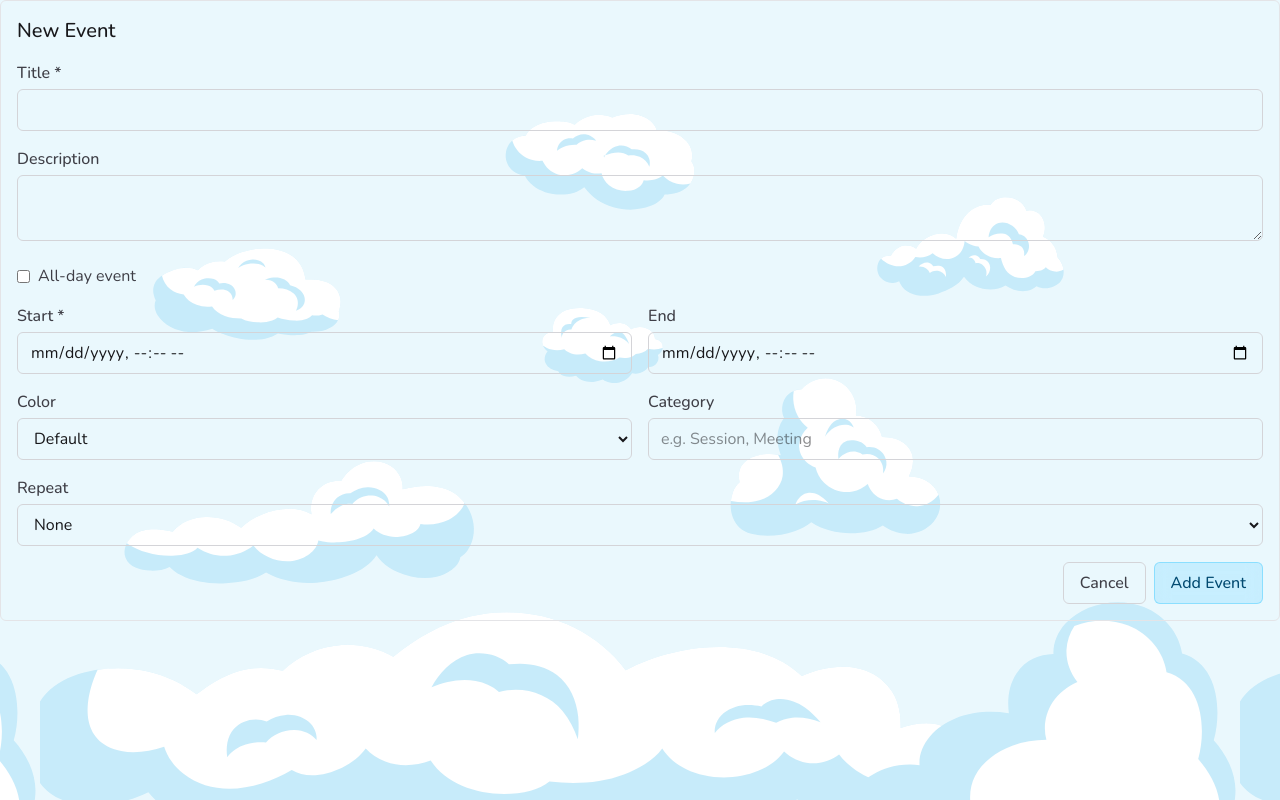
Scenario: CalendarEventForm › shows error when API returns error
Type "Test" into the field labelled "Title *". click: (640, 110)
box: [17,89,1263,131]
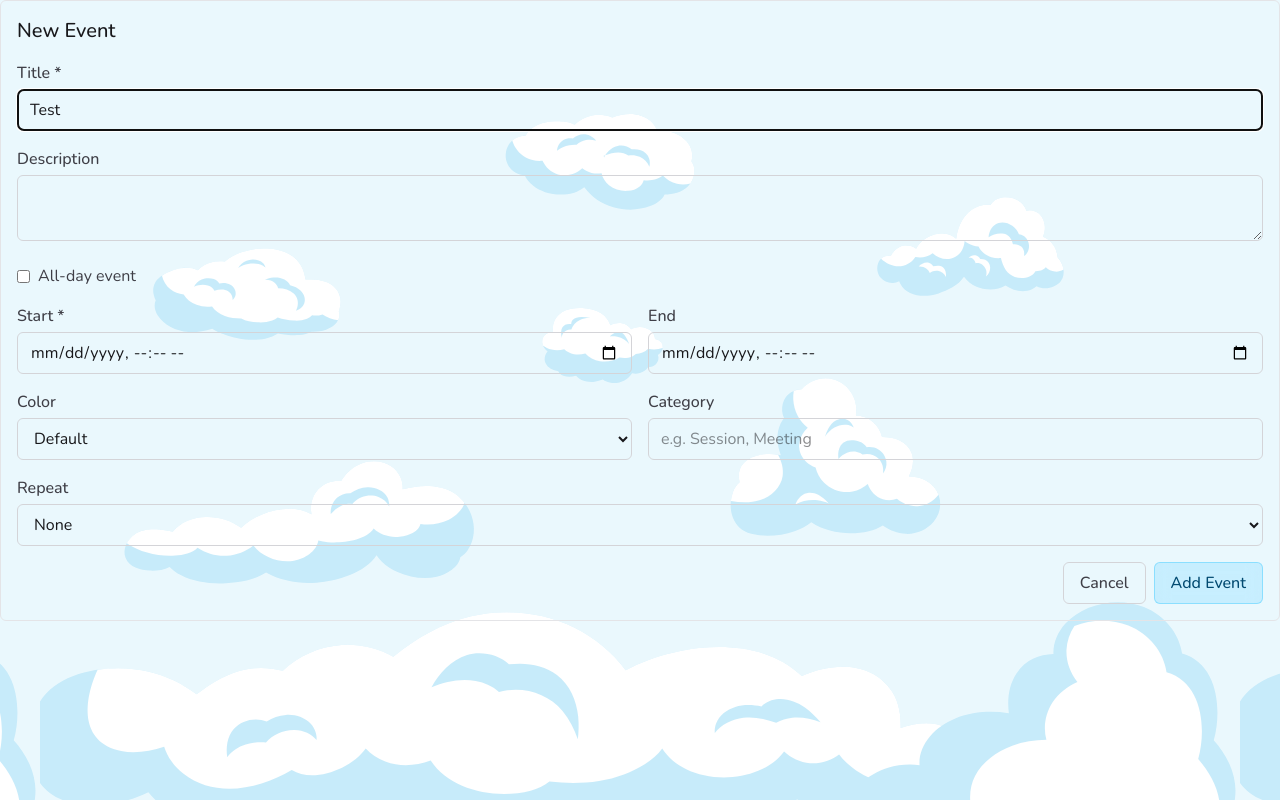
Type "2024-06-10T10:00" into the field labelled "Start *". click: (324, 353)
box: [17,332,632,374]
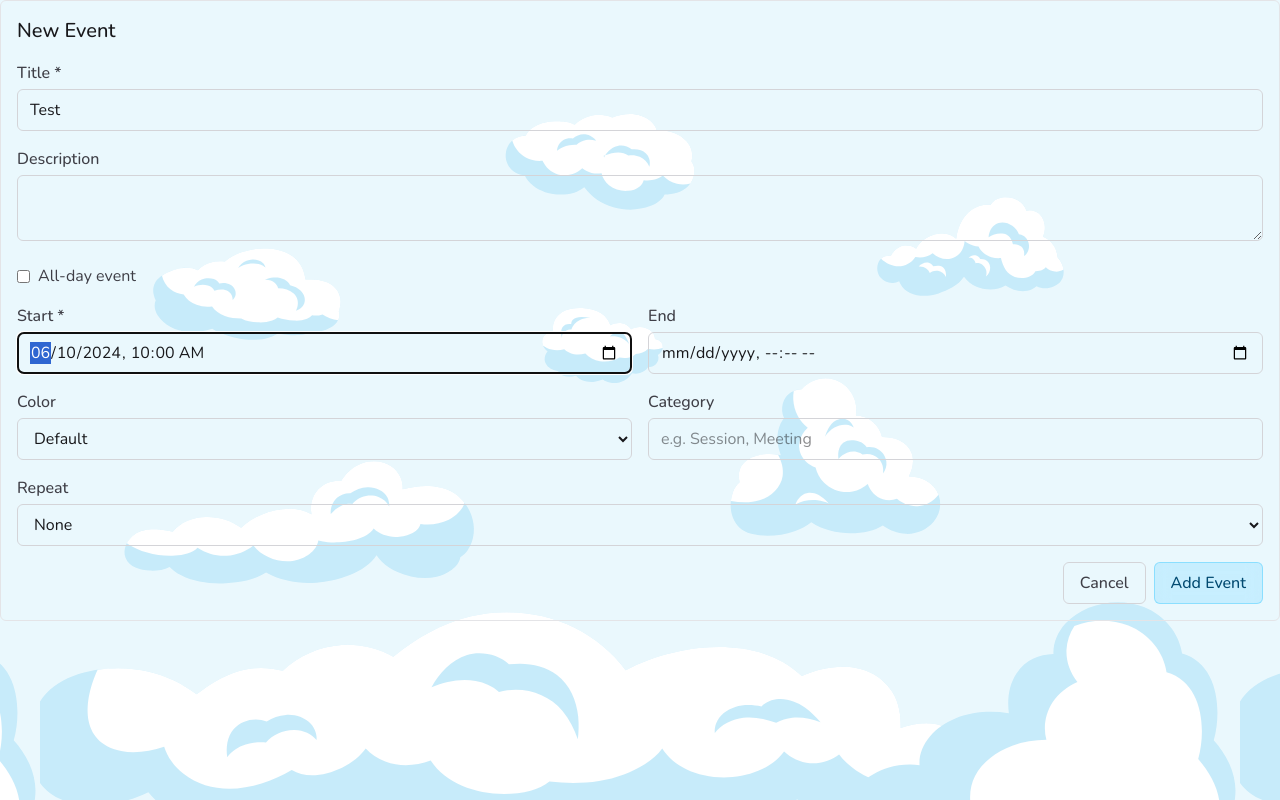
Click the button "Add Event". click: click(1208, 583)
box: [1154,562,1263,604]
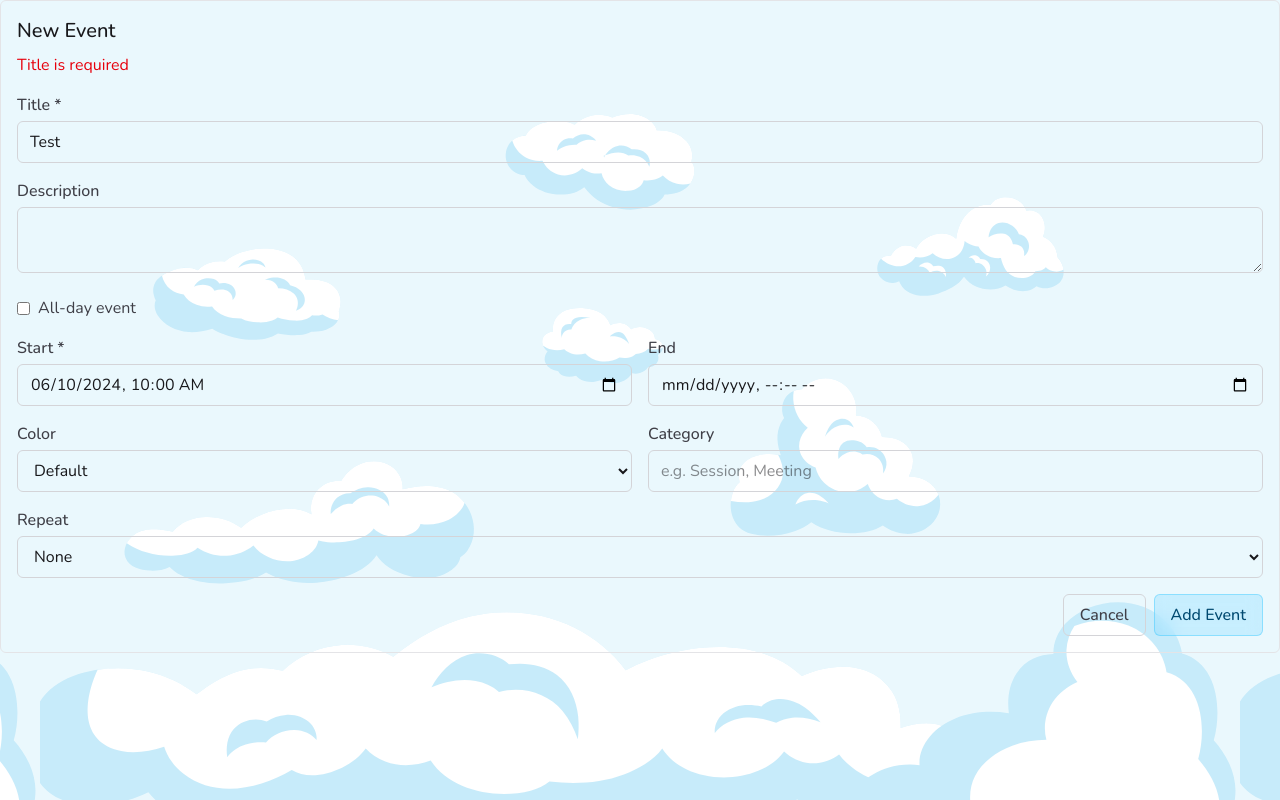
Now the text "Title is required" is shown, box [17,54,129,76]
